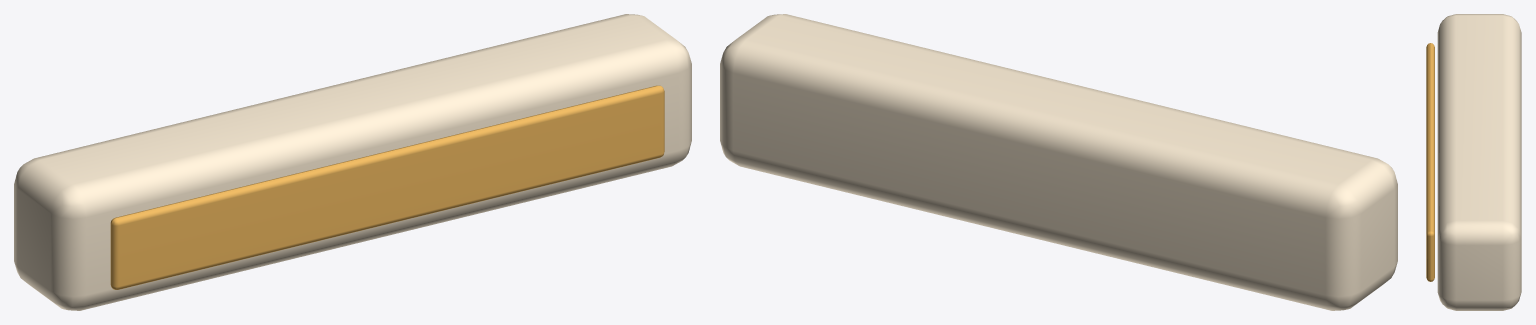
The model's file is light.glb.
The picture shows the model from 3 angles, left to right: view 1: azimuth 30°, elevation 25°; view 2: azimuth 150°, elevation 25°; view 3: azimuth 270°, elevation 25°; orthographic projection. The views are drawn at different scales.
Parts seen in each view (by area): view 1: Wall light housing, Warm diffuser; view 2: Wall light housing; view 3: Wall light housing, Warm diffuser.
Part boxes in pixels (x1,y1,x2,y2): Wall light housing: (14,14,691,310); Warm diffuser: (110,85,664,289); Wall light housing: (720,14,1397,310); Wall light housing: (1437,14,1521,310); Warm diffuser: (1426,43,1434,281).
Size of the model in its own units: 1.12 by 0.21 by 0.204.
